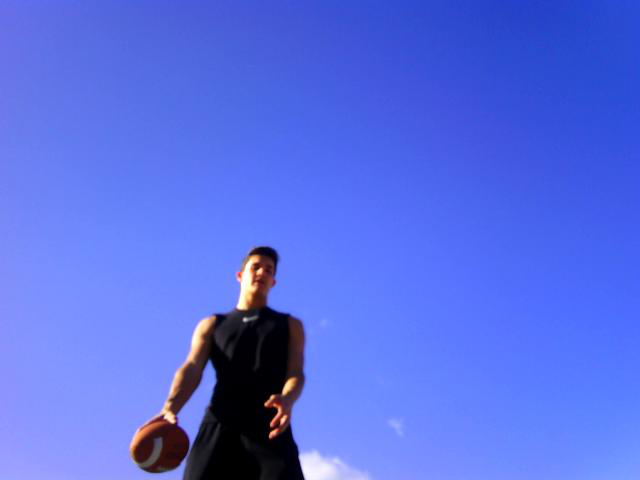football: (128, 421, 191, 475)
